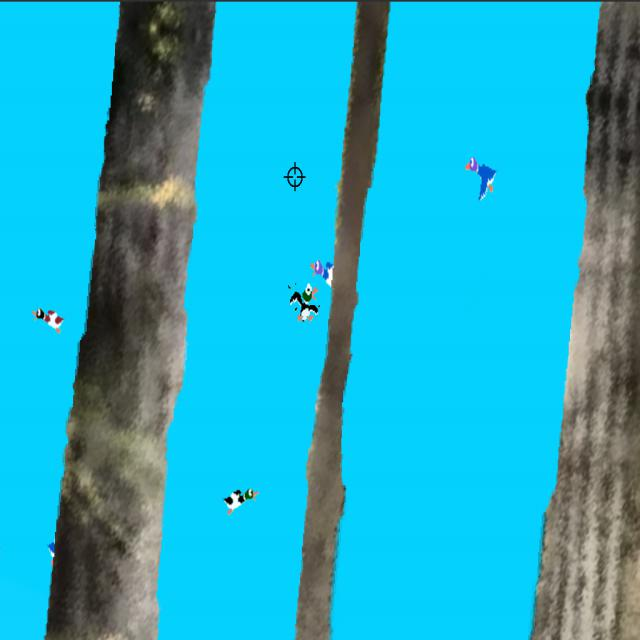duck: (461, 151, 502, 202), (220, 479, 261, 523), (29, 300, 72, 338), (307, 253, 337, 290)
falling_duck: (286, 279, 326, 327)
